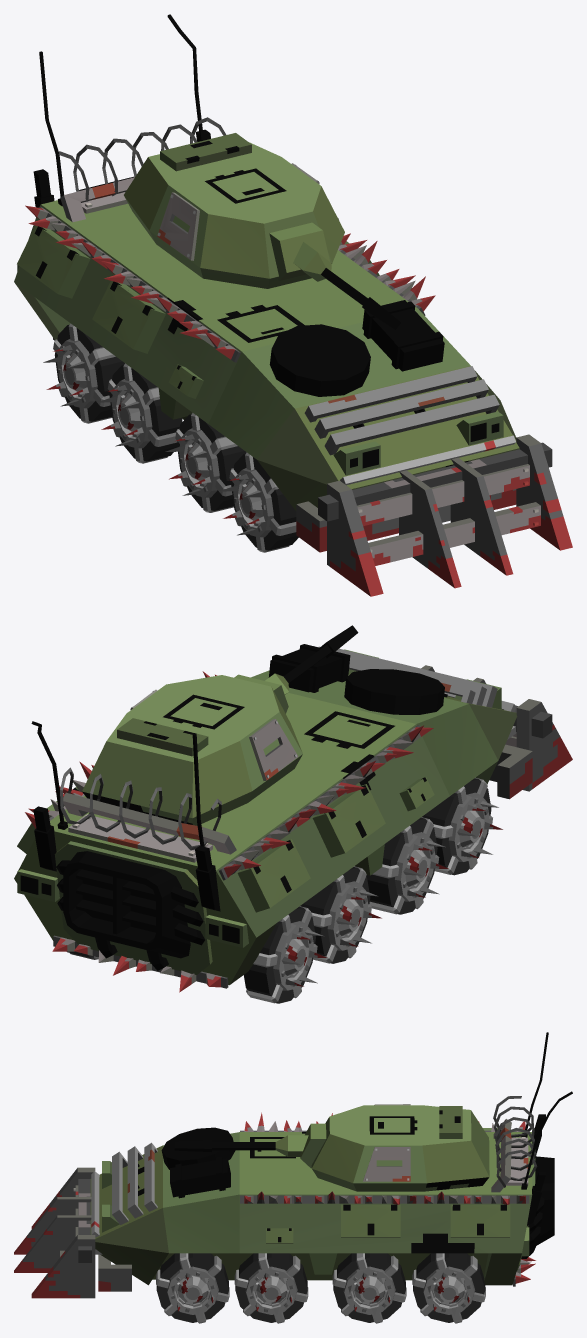
Rendered from 09_SA_Veh_APC.glb.
The picture shows the model from 3 angles, top to bottom: view 1: azimuth 30°, elevation 25°; view 2: azimuth 150°, elevation 25°; view 3: azimuth 270°, elevation 25°; orthographic projection. The views are drawn at different scales.
Parts seen in each view (by area): view 1: Body, armor_5, armor_2, Wheel_B_1gr (×4), armor_1, Wheel_B_3gr (×4), gun, armor_3_part_B_R 1, armor_4, armor_3_part_B_L 1, SA_Veh_APC_Wheel_R3, armor_3_part_C_R (+3 smaller); view 2: Body, Nitro, Wheel_B_1gr (×4), armor_4, Wheel_B_3gr (×4), armor_3_part_B_R 1, armor_5, armor_3_part_D, armor_2, armor_1, armor_3_part_A, SA_Veh_APC_Wheel_R2 (+6 smaller); view 3: Body, armor_5, Wheel_B_1gr (×4), Wheel_B_3gr (×4), armor_3_part_B_L 1, armor_2, gun, armor_4, armor_1, SA_Veh_APC_Wheel_FL, SA_Veh_APC_Wheel_L4, SA_Veh_APC_Wheel_L3 (+5 smaller).
Boxes of the visible parts, bbox=[...] form: Body: bbox=[14, 14, 519, 510]; armor_5: bbox=[318, 434, 572, 596]; armor_2: bbox=[304, 366, 499, 455]; Wheel_B_1gr (×4): bbox=[57, 339, 273, 537]; armor_1: bbox=[296, 435, 516, 552]; Wheel_B_3gr (×4): bbox=[53, 323, 296, 552]; gun: bbox=[269, 222, 401, 329]; armor_3_part_B_R 1: bbox=[25, 205, 240, 362]; armor_4: bbox=[58, 117, 226, 222]; armor_3_part_B_L 1: bbox=[338, 233, 435, 315]; SA_Veh_APC_Wheel_R3: bbox=[109, 364, 182, 461]; armor_3_part_C_R: bbox=[157, 192, 199, 260]; Body: bbox=[14, 644, 517, 985]; Nitro: bbox=[54, 841, 212, 974]; Wheel_B_1gr (×4): bbox=[273, 792, 489, 990]; armor_4: bbox=[60, 767, 236, 854]; Wheel_B_3gr (×4): bbox=[246, 777, 492, 1003]; armor_3_part_B_R 1: bbox=[219, 725, 433, 880]; armor_5: bbox=[421, 665, 572, 791]; armor_3_part_D: bbox=[68, 814, 212, 862]; armor_2: bbox=[319, 646, 497, 707]; armor_1: bbox=[444, 692, 532, 799]; armor_3_part_A: bbox=[52, 935, 228, 992]; SA_Veh_APC_Wheel_R2: bbox=[366, 817, 437, 914]; Body: bbox=[90, 1032, 572, 1285]; armor_5: bbox=[14, 1167, 95, 1298]; Wheel_B_1gr (×4): bbox=[166, 1266, 475, 1314]; Wheel_B_3gr (×4): bbox=[156, 1253, 485, 1323]; armor_3_part_B_L 1: bbox=[240, 1191, 529, 1204]; armor_2: bbox=[112, 1142, 157, 1224]; gun: bbox=[174, 1123, 326, 1168]; armor_4: bbox=[491, 1096, 537, 1192]; armor_1: bbox=[78, 1171, 131, 1291]; SA_Veh_APC_Wheel_FL: bbox=[156, 1253, 228, 1322]; SA_Veh_APC_Wheel_L4: bbox=[413, 1253, 485, 1322]; SA_Veh_APC_Wheel_L3: bbox=[333, 1253, 405, 1322].
Size of what is drawn, in the model's own units: 4.31 by 4.92 by 11.04.
1 material, 1 textured.
